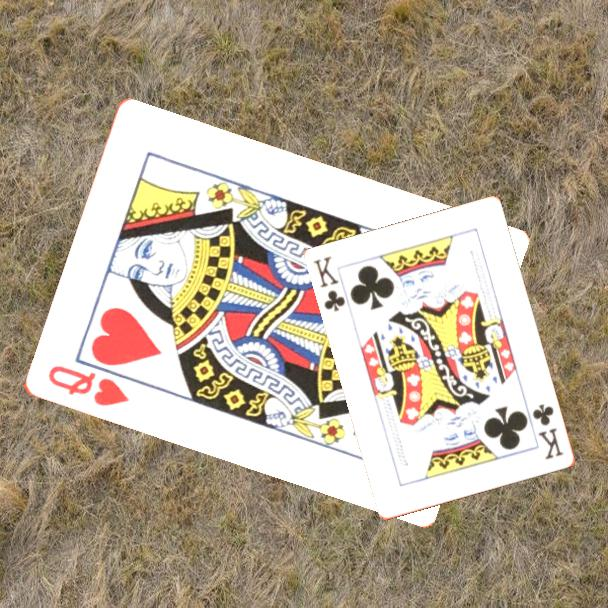c13: (310, 253, 349, 315), (529, 401, 567, 463)
h12: (44, 362, 132, 410)
